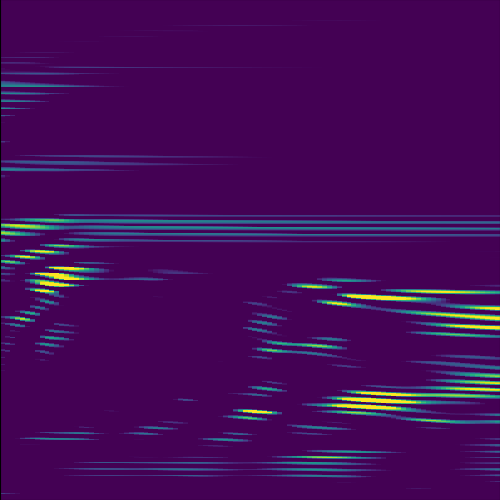semblance: (307, 386, 433, 421), (23, 260, 112, 297), (1, 215, 72, 241), (8, 242, 92, 261)
